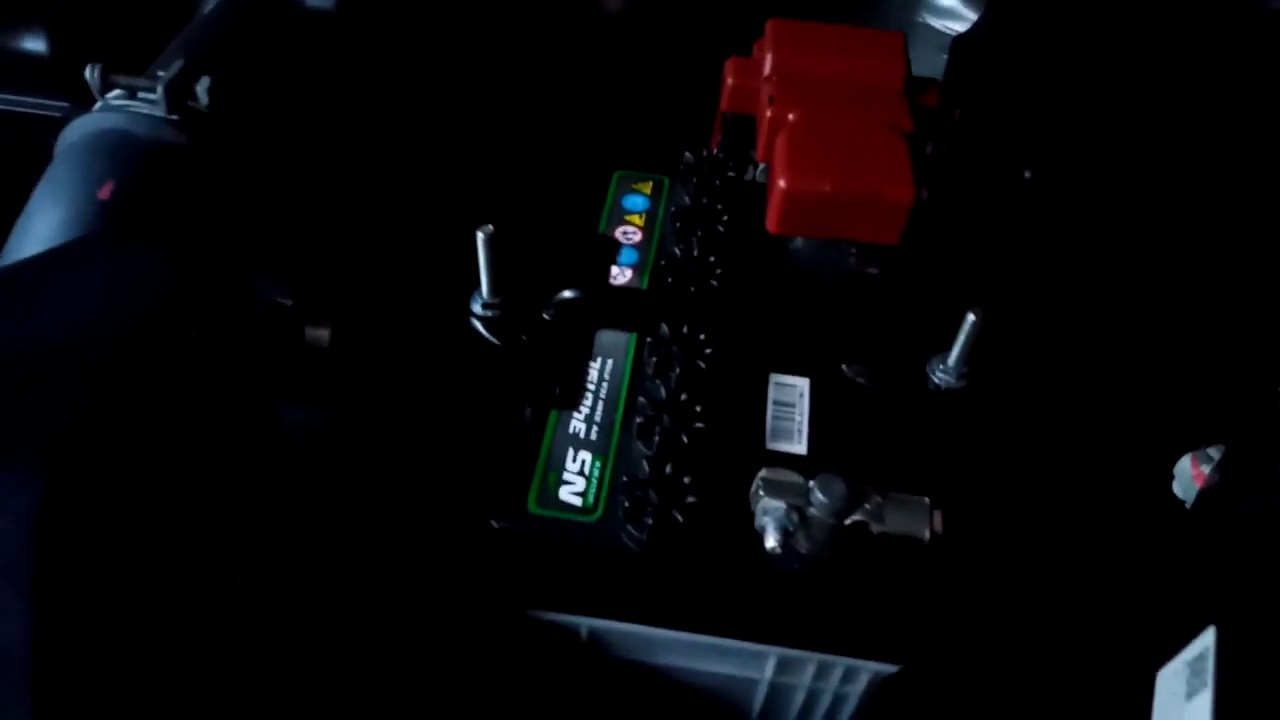battery: (531, 150, 942, 588)
neg_connected: (748, 429, 959, 575)
pos_connected: (700, 26, 937, 254)
